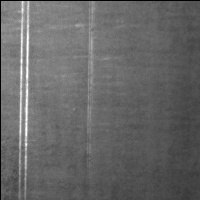scratches: (16, 2, 32, 200), (85, 2, 97, 161)
